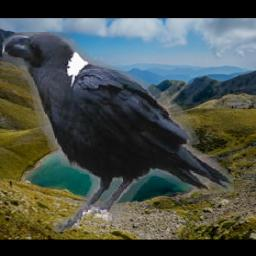Crow: (1, 32, 233, 233)
